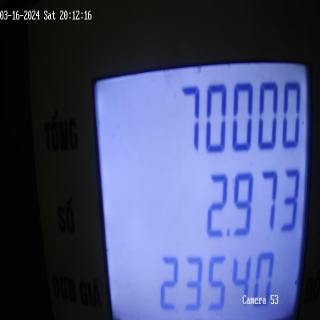screen: (87, 44, 315, 320)
